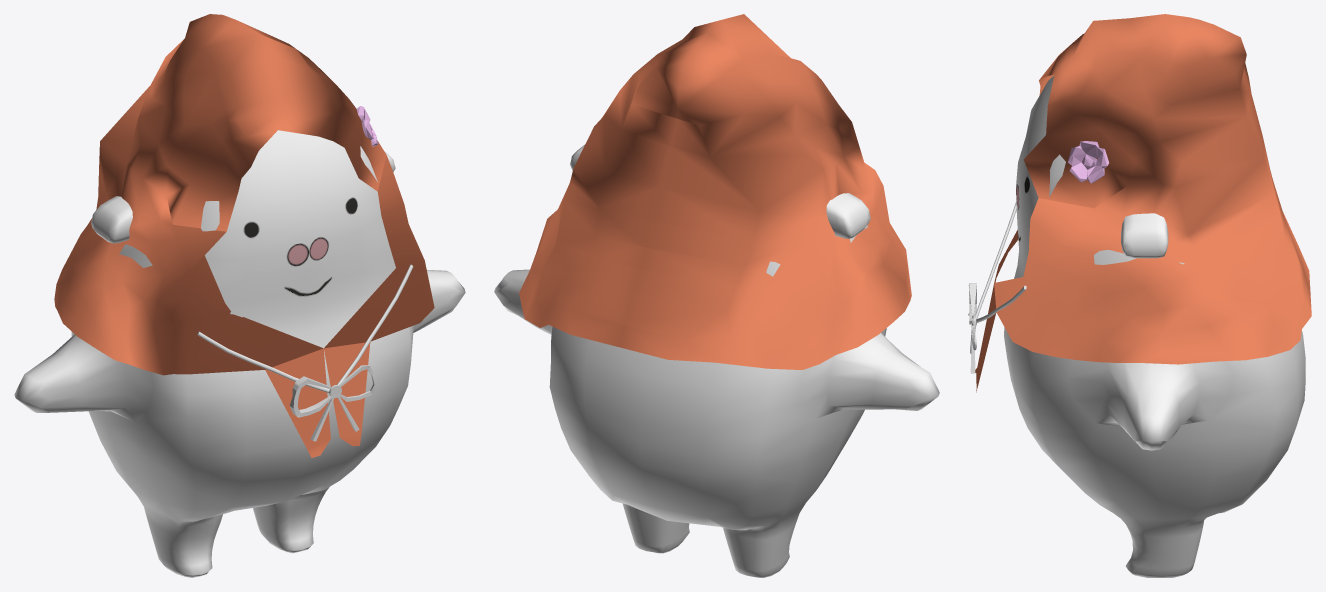
3 renders of one model, left to right at view 1: azimuth 30°, elevation 25°; view 2: azimuth 150°, elevation 25°; view 3: azimuth 270°, elevation 25°, orthographic.
Parts seen in each view (by area): view 1: body1, cloth1, bow1; view 2: cloth1, body1; view 3: cloth1, body1, flower1, bow1.
Part boxes in pixels (box(x1,y1,x2,y2)): body1: box(14, 130, 465, 577); cloth1: box(54, 14, 434, 457); bow1: box(197, 264, 413, 441); cloth1: box(519, 14, 911, 369); body1: box(494, 145, 939, 577); cloth1: box(975, 14, 1311, 392); body1: box(1004, 75, 1305, 577); flower1: box(1067, 141, 1108, 183); bow1: box(968, 202, 1026, 373).
Size of the model in its own units: 17.4 by 19.73 by 11.49.
Materials: 4 (1 with a texture image).
